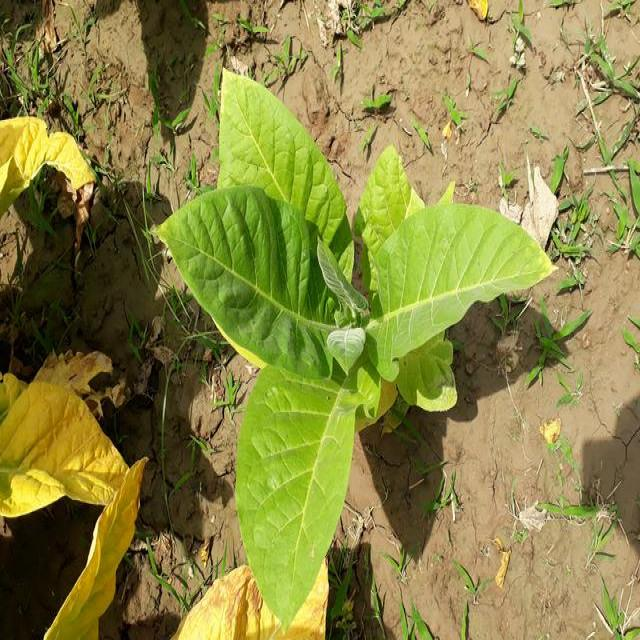crop: (178, 75, 544, 606), (0, 356, 145, 639), (0, 128, 88, 280), (174, 572, 338, 640)
